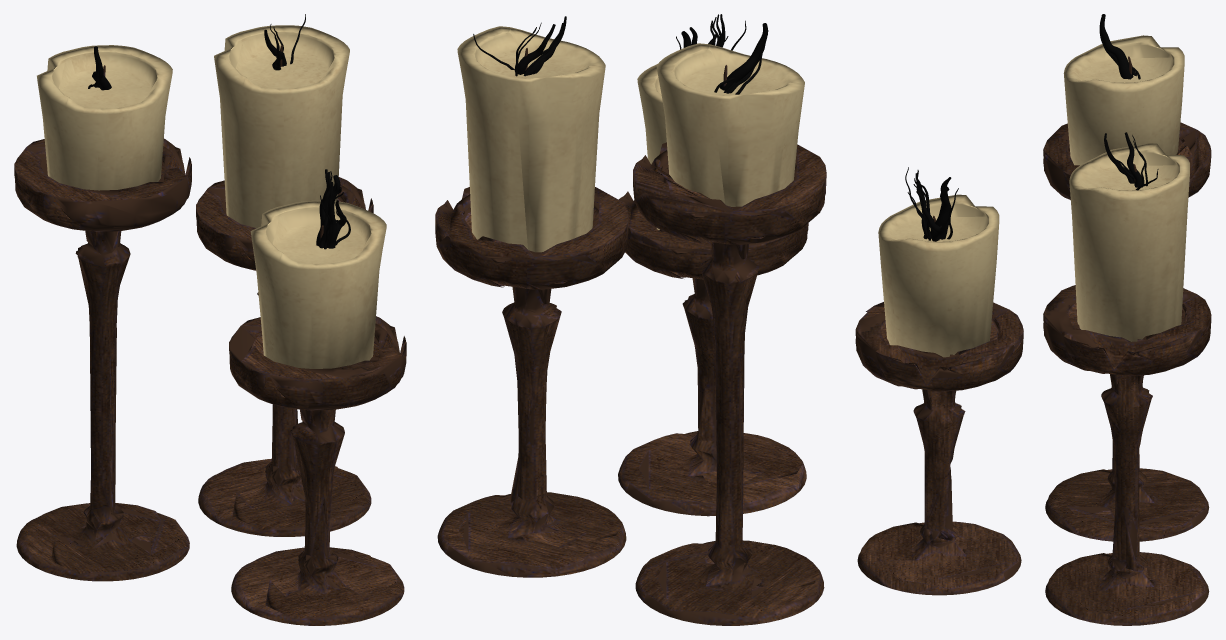
Rendered from candle 7.obj.
3 renders of one model, left to right at view 1: azimuth 30°, elevation 25°; view 2: azimuth 150°, elevation 25°; view 3: azimuth 270°, elevation 25°, orthographic. The views are drawn at different scales.
Parts seen in each view (by area): view 1: directionalLight2; view 2: directionalLight2; view 3: directionalLight2.
Boxes of the visible parts, x1,y1,x2,y2 form: directionalLight2: (14, 14, 406, 625); directionalLight2: (435, 14, 826, 625); directionalLight2: (855, 14, 1211, 625).
Bounding box in the file's own units: 4.11 × 5.98 × 3.99.
6 materials, 3 textured.
